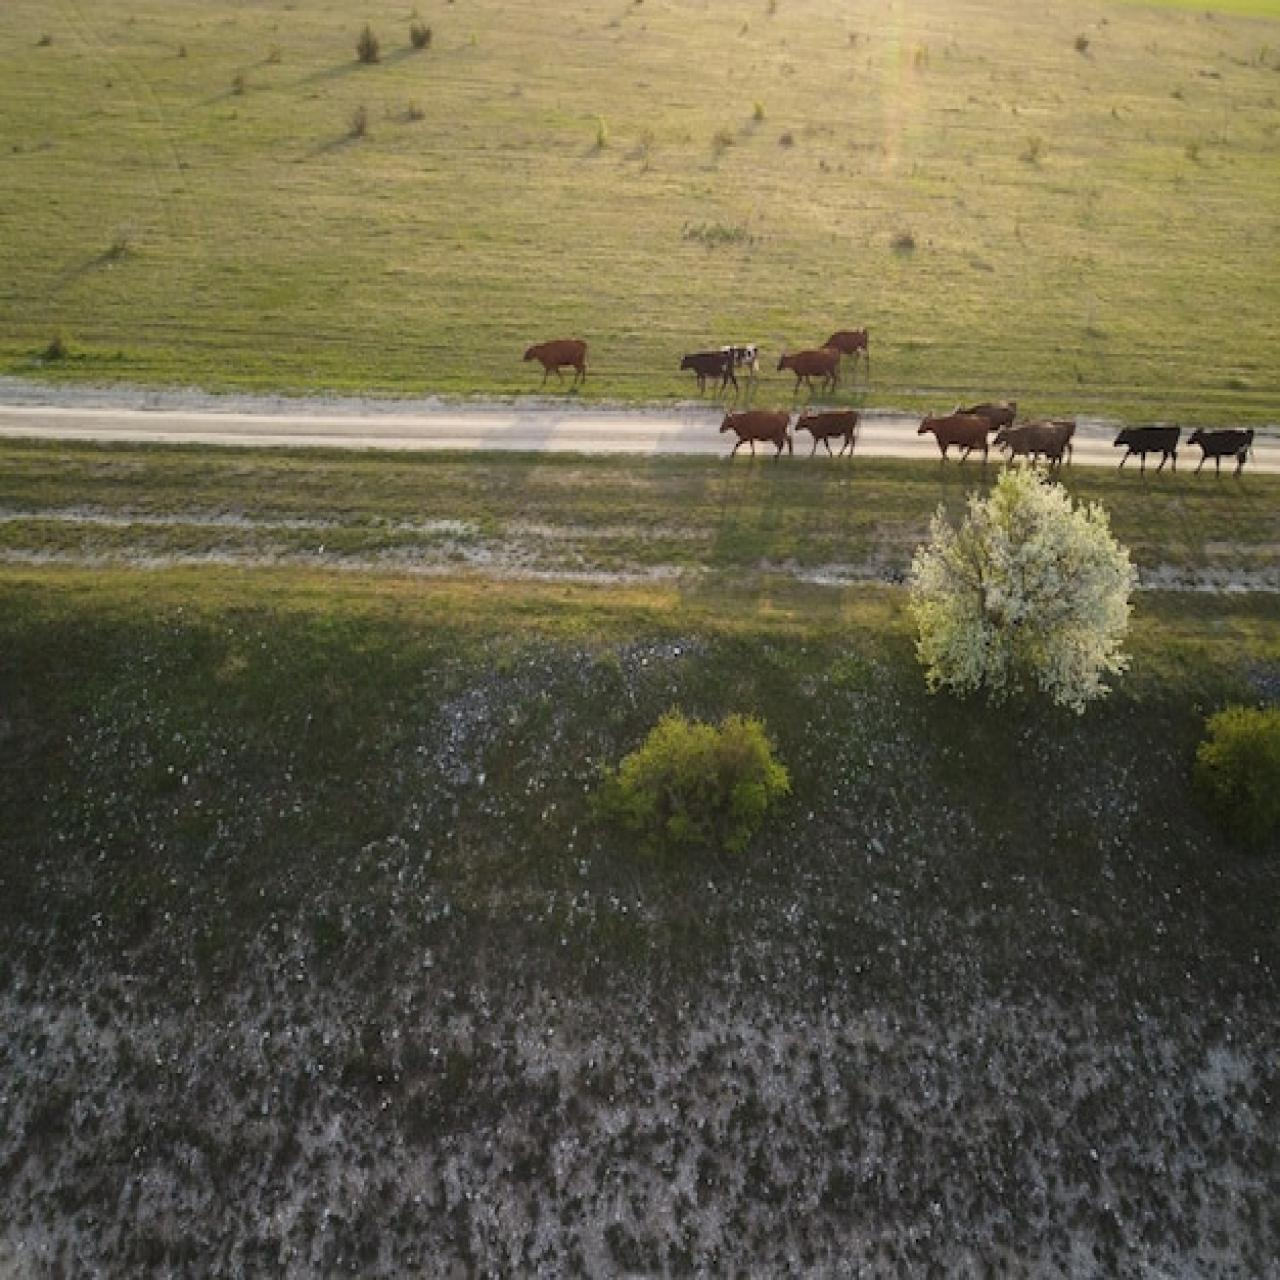cow: (918, 411, 995, 477), (1006, 413, 1081, 478), (717, 403, 796, 465), (1114, 421, 1185, 481), (1194, 421, 1262, 481), (523, 333, 593, 388), (802, 406, 865, 463), (946, 396, 1020, 445), (778, 342, 842, 399), (819, 316, 880, 374), (681, 347, 741, 399), (716, 331, 763, 373)
